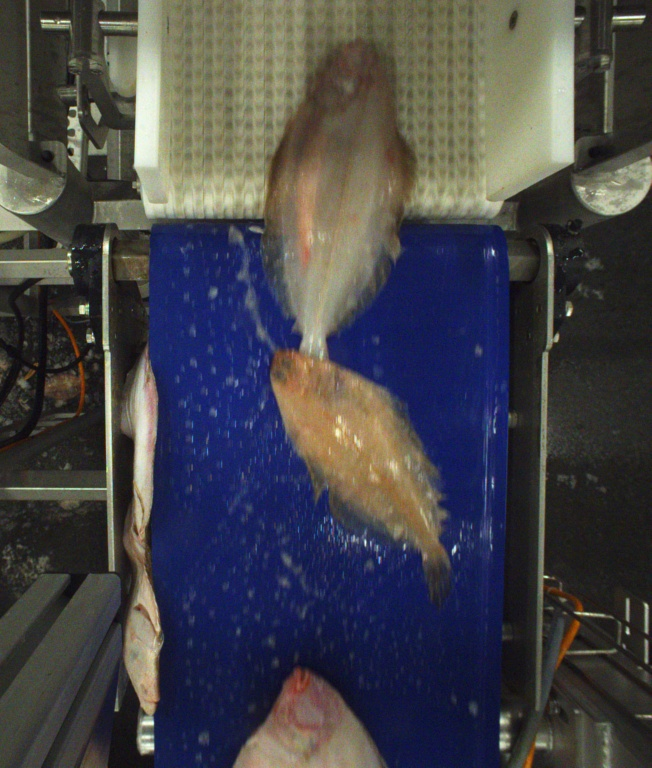WIT: (231, 667, 395, 768)
